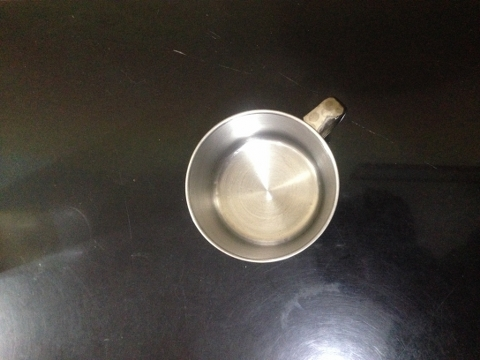tempat minum: (184, 96, 347, 263)
